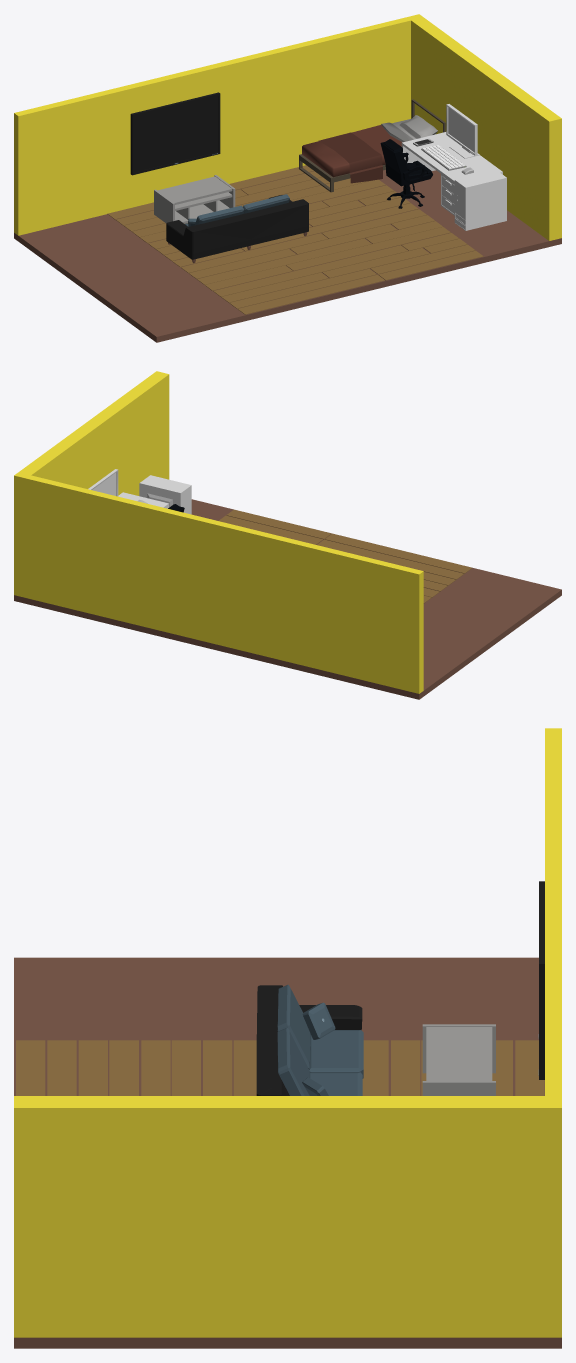
The model's file is Office.glb.
The picture shows the model from 3 angles, top to bottom: view 1: azimuth 30°, elevation 25°; view 2: azimuth 150°, elevation 25°; view 3: azimuth 270°, elevation 25°; orthographic projection. The views are drawn at different scales.
Visible parts, largest first — view 1: Plane, Cube.024, Node, Cube_Cube.001, Bed_Single, Computer.001, Shelf_Small2, Desk, ExecutiveChair1, Monitor; view 2: Plane, Cube.024, Computer.001, Monitor; view 3: Plane, Cube.024, Node, Shelf_Small2, Cube_Cube.001.
Boxes of the visible parts, x1,y1,x2,y2 form: Plane: (14,14,561,342); Cube.024: (107,165,483,314); Node: (166,194,308,263); Cube_Cube.001: (130,92,220,175); Bed_Single: (299,99,445,192); Computer.001: (454,170,506,230); Shelf_Small2: (154,175,235,223); Desk: (401,132,502,215); ExecutiveChair1: (380,139,432,208); Monitor: (446,104,479,158); Plane: (14,371,561,699); Cube.024: (219,509,471,603); Computer.001: (139,475,191,514); Monitor: (88,469,118,496); Plane: (14,728,561,1348); Cube.024: (16,1040,544,1095); Node: (256,984,363,1095); Shelf_Small2: (422,1024,495,1095); Cube_Cube.001: (538,881,544,1079).
Size of the model in its own units: 127 by 38.3 by 77.45.
